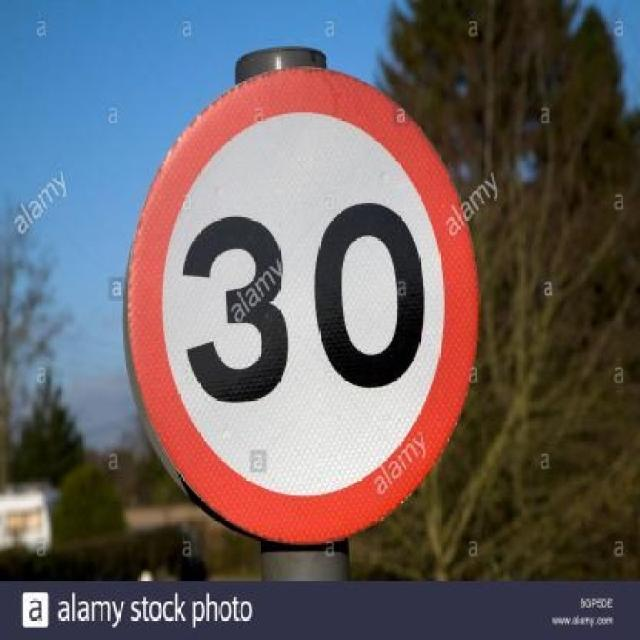forb_speed_over_30: (131, 69, 475, 540)
